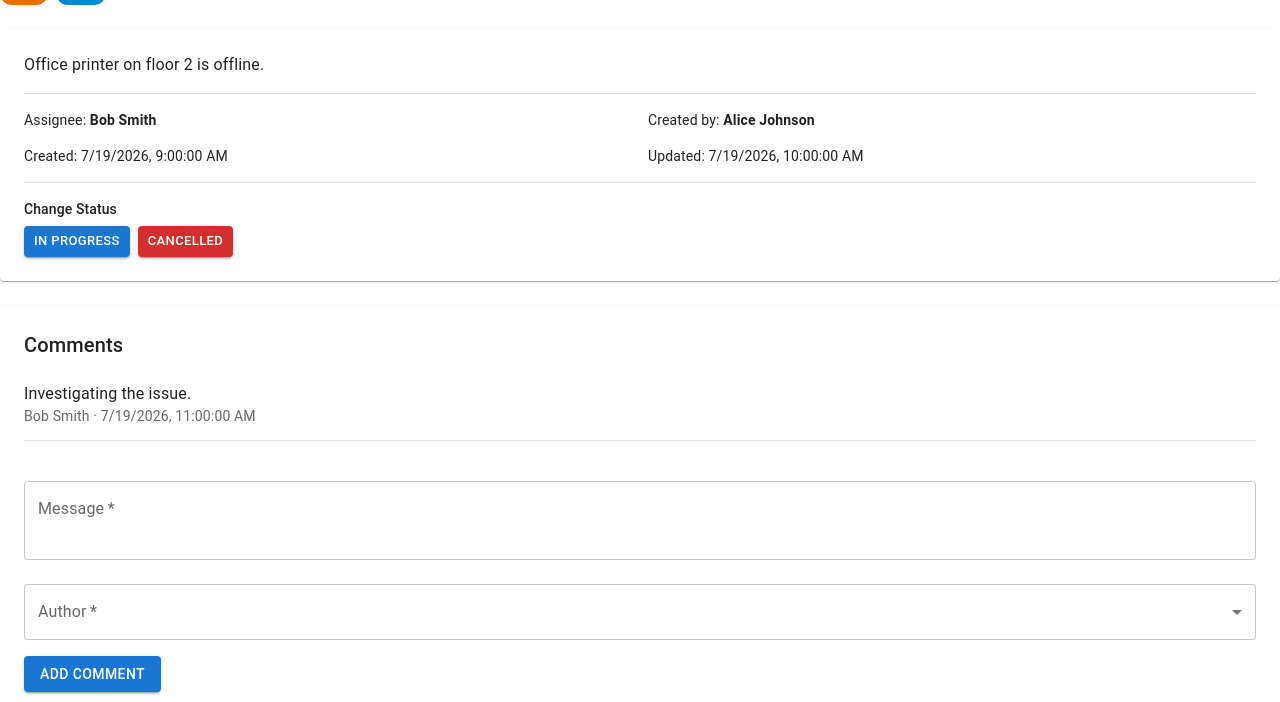
TicketDetailPage › shows client-side validation errors for empty comment form
(page scrolled)
Click the button "Add Comment" at (92, 674), box [24, 656, 161, 692]
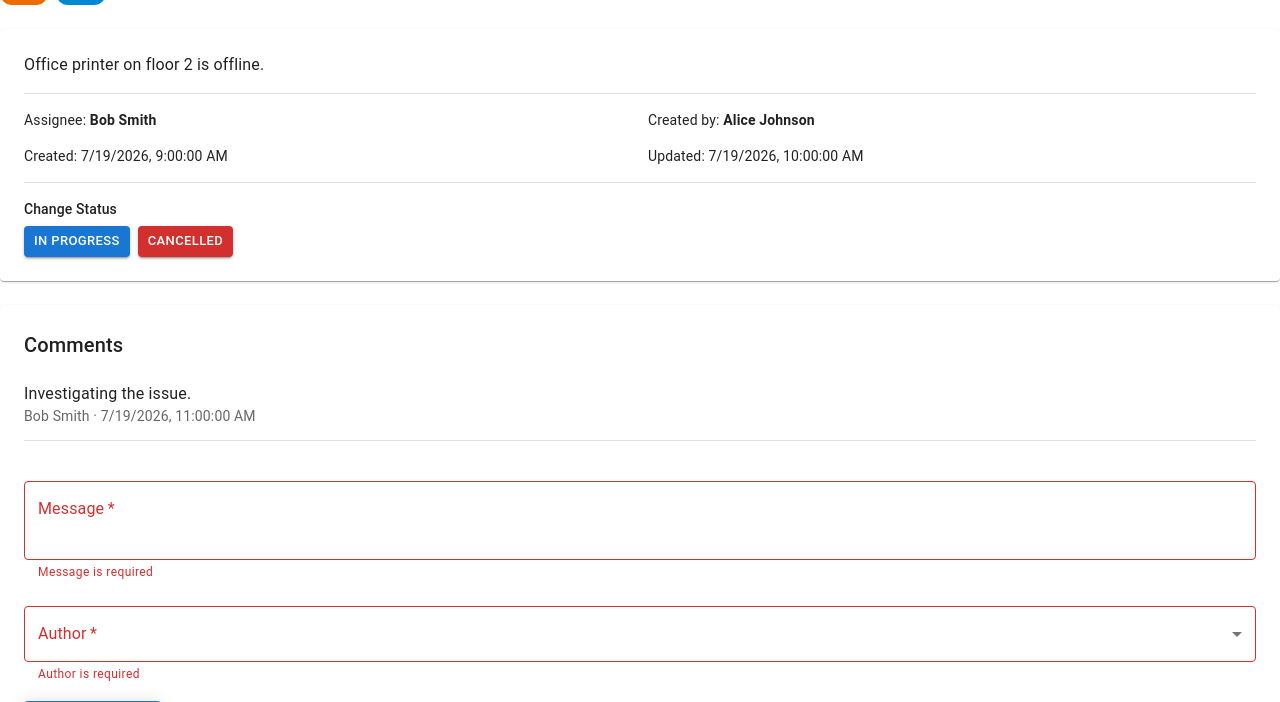
Now the text "Message is required" is shown, box [38, 564, 153, 578]
Now the text "Author is required" is shown, box [38, 667, 140, 681]
